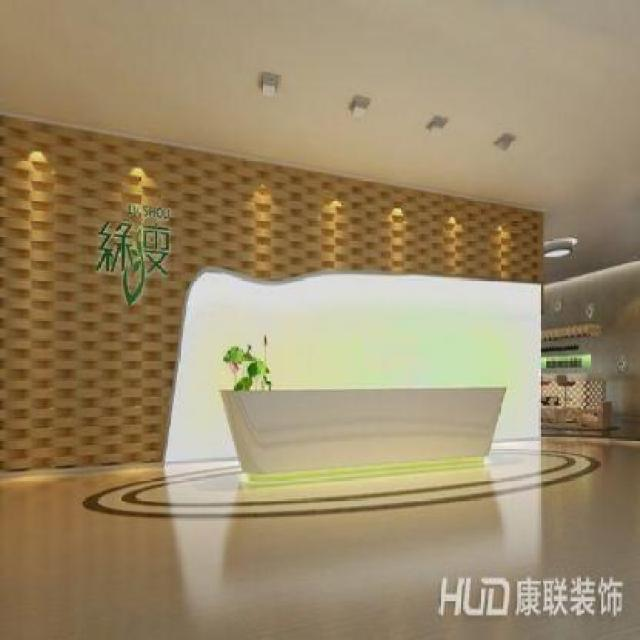frontdesk: (207, 368, 508, 493)
